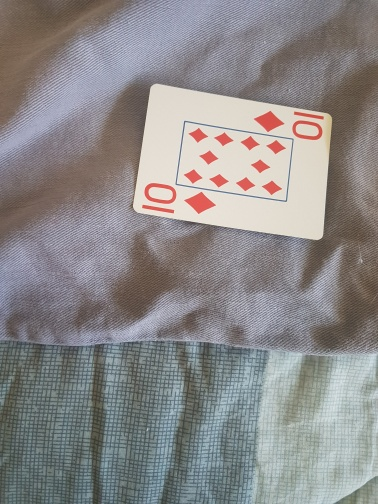ten: (134, 83, 338, 241)
